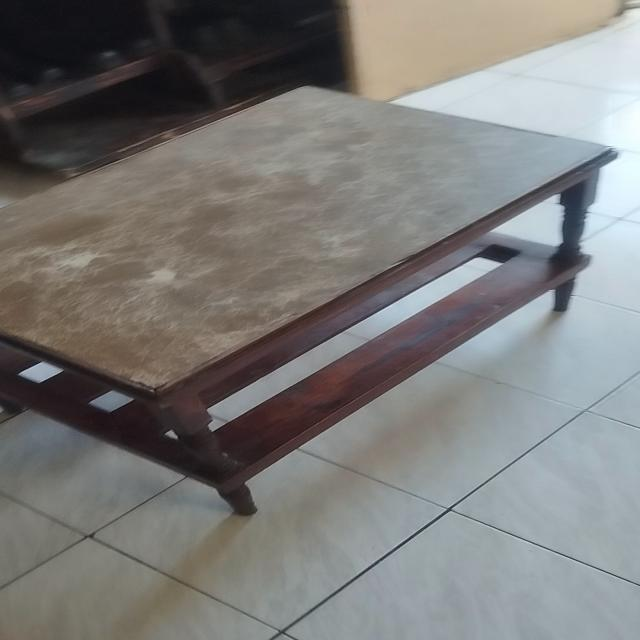table: (0, 82, 624, 516)
